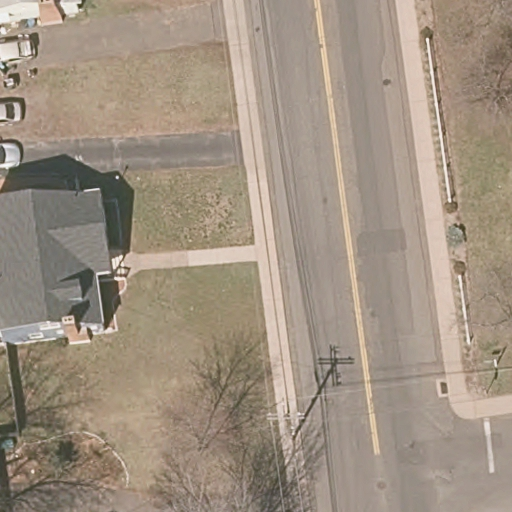DT: (265, 408, 306, 438)
